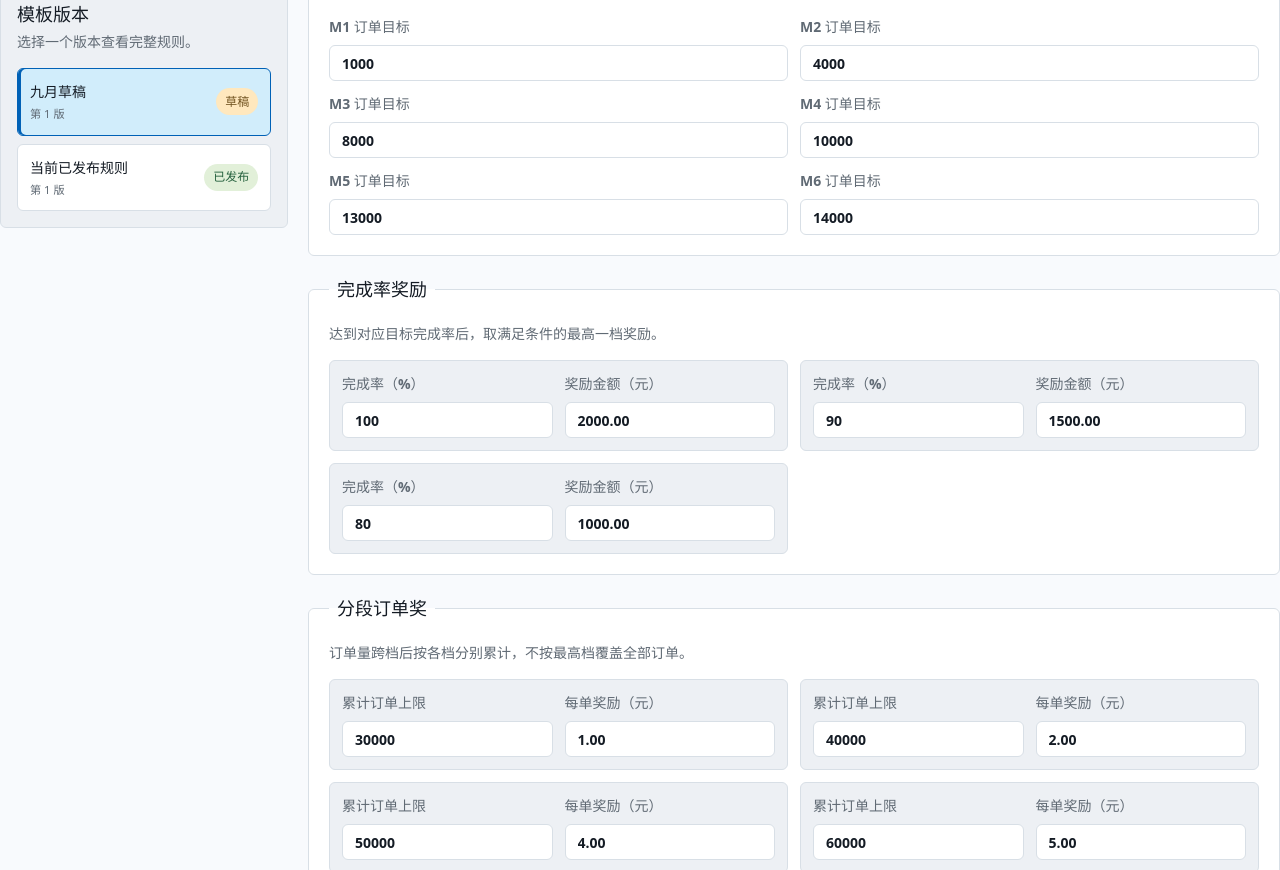
Test: 大区经理提成模板规则编辑器 › 有未保存修改时点击其他版本会给出明确选择
(page scrolled)
Replace the text in the number field named "完成率奖励1金额" with "2600". click: (670, 420)
box: [564,402,775,438]
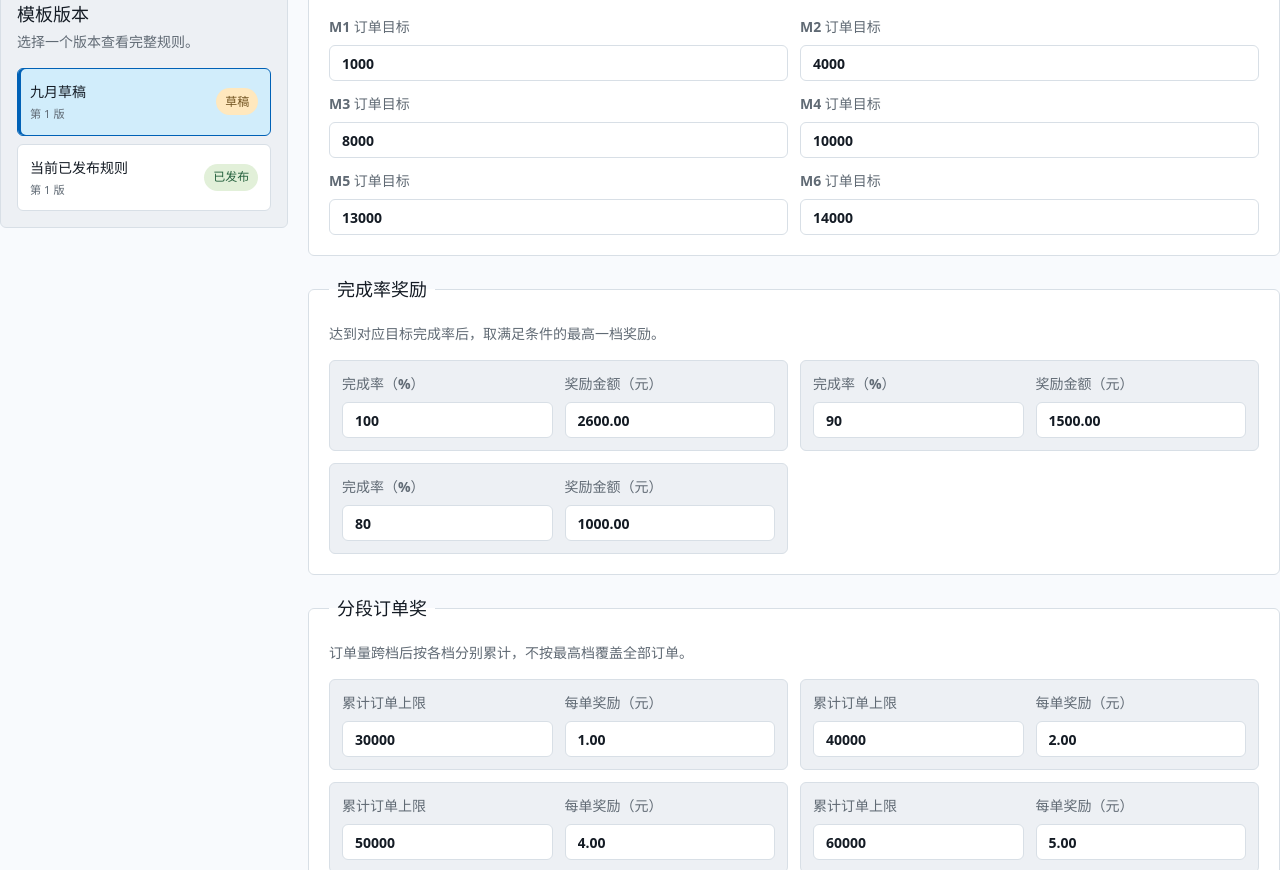
Click the button "当前已发布规则 第 1 版 已发布". click: (144, 177)
box: [17,143,271,211]
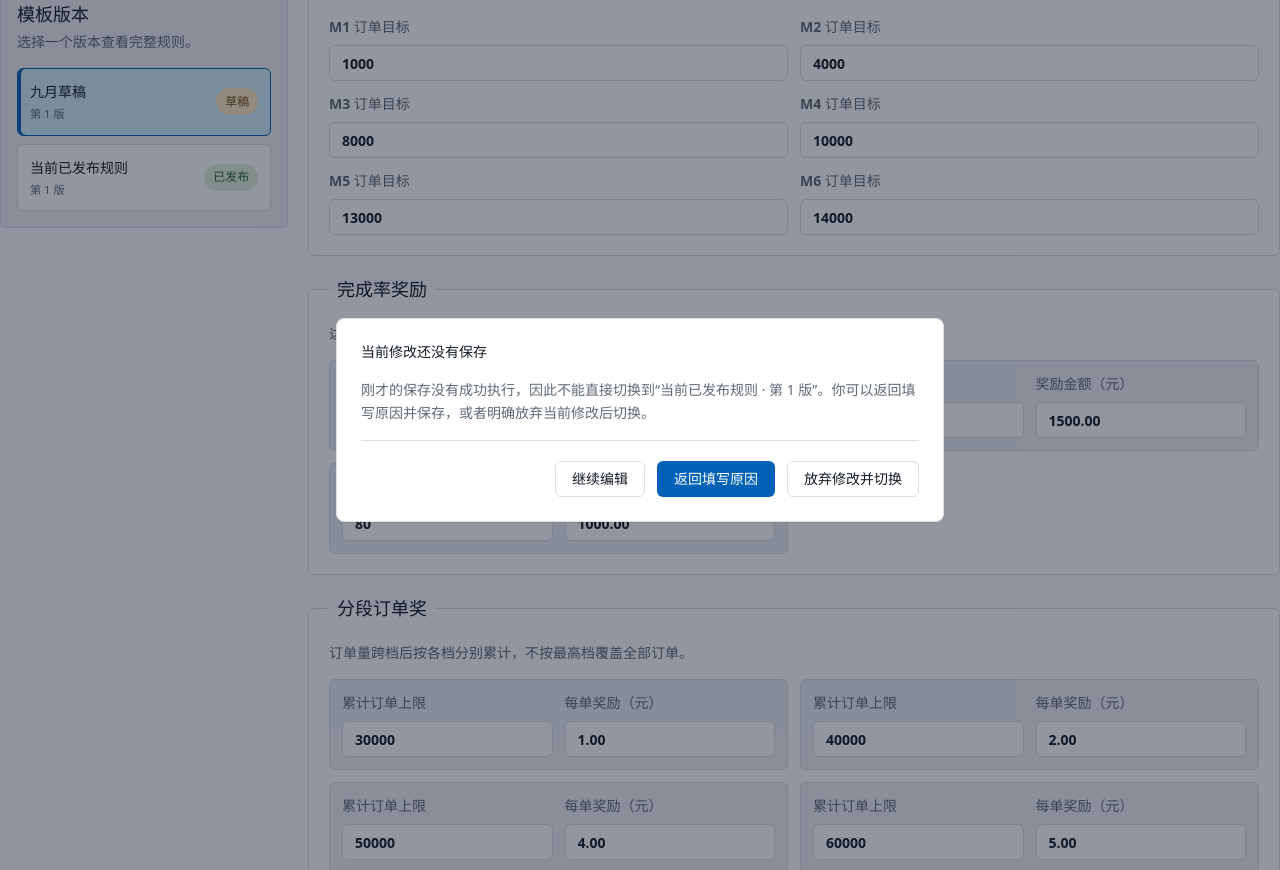
Check: the dialog "当前修改还没有保存" is shown, box [336,318,944,522]
Check: the text "保存没有成功执行" is shown, box [361,380,660,398]
Click the button "放弃修改并切换". click: (853, 479)
box: [787,461,919,497]
(page scrolled)
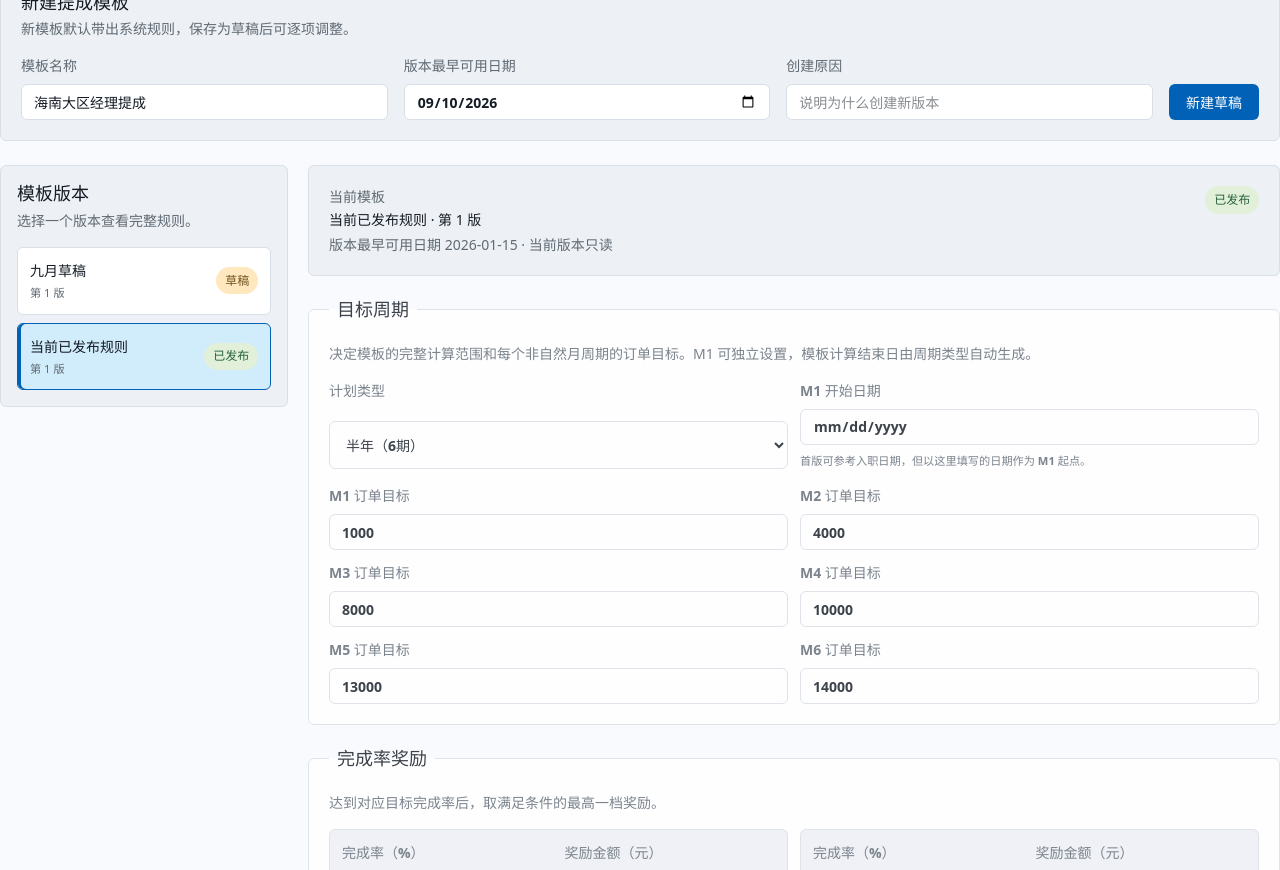
Check: the heading "当前已发布规则 · 第 1 版" is shown, box [329,210,481,229]
